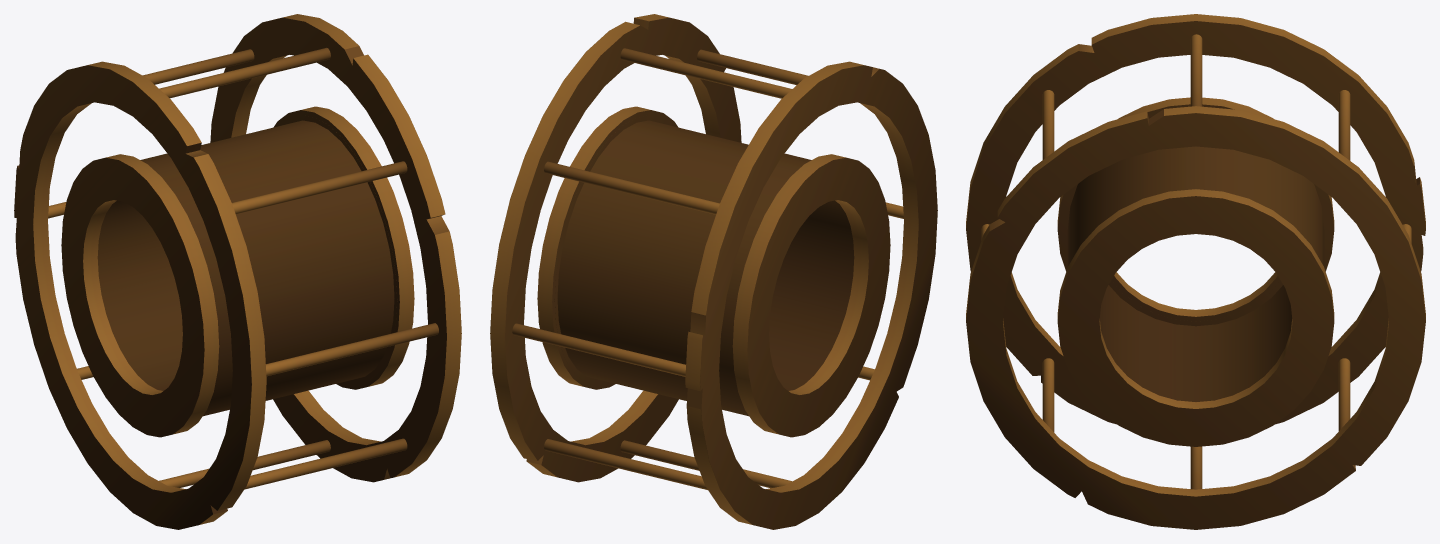
The model's file is Wheel.fbx.
The picture shows the model from 3 angles, left to right: view 1: azimuth 30°, elevation 25°; view 2: azimuth 150°, elevation 25°; view 3: azimuth 270°, elevation 25°; orthographic projection. The views are drawn at different scales.
Parts seen in each view (by area): view 1: Wheel; view 2: Wheel; view 3: Wheel.
Boxes of the visible parts, x1=… form: Wheel: x1=14, y1=14, x2=461, y2=529; Wheel: x1=490, y1=14, x2=937, y2=529; Wheel: x1=966, y1=14, x2=1425, y2=529.
Bounding box in the file's own units: 348 × 682 × 682.
Materials: 1 (1 with a texture image).
